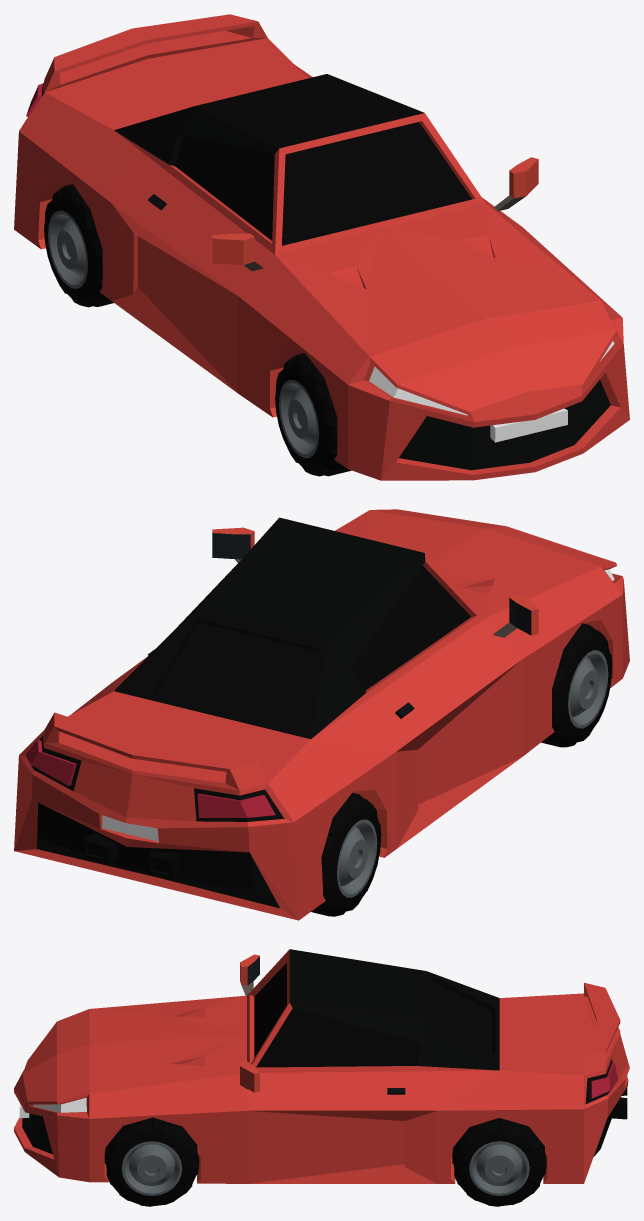
The model's file is DEPORTIVO.fbx.
The picture shows the model from 3 angles, top to bottom: view 1: azimuth 30°, elevation 25°; view 2: azimuth 150°, elevation 25°; view 3: azimuth 270°, elevation 25°; orthographic projection. The views are drawn at different scales.
Parts seen in each view (by area): view 1: Sports; view 2: Sports; view 3: Sports.
Boxes of the visible parts, bbox=[...] form: Sports: bbox=[14, 14, 629, 480]; Sports: bbox=[14, 509, 629, 920]; Sports: bbox=[14, 949, 629, 1206].
Size of the model in its own units: 395 by 859 by 281.
Materials: 2 (2 with a texture image).
